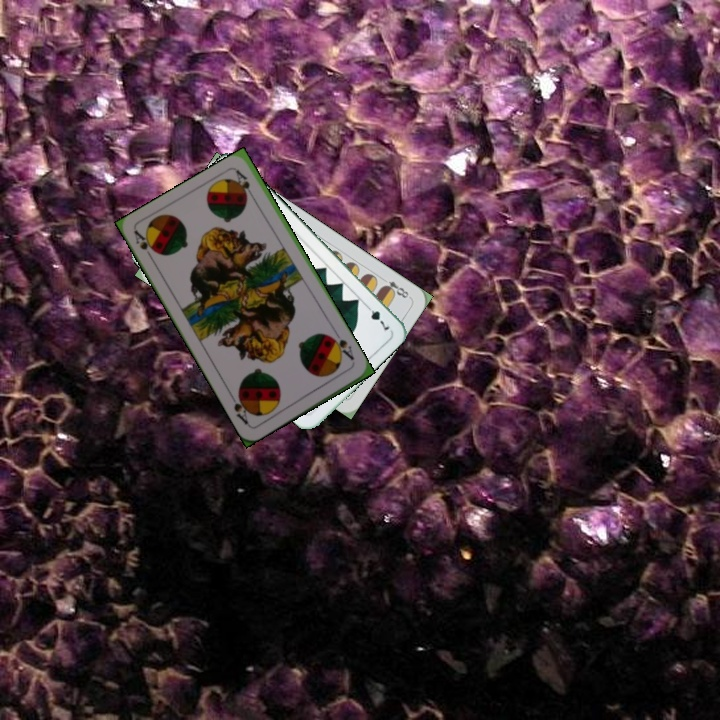E8: (378, 273, 413, 301)
G7: (361, 300, 392, 333)
SA: (130, 227, 159, 264), (326, 332, 357, 366)
